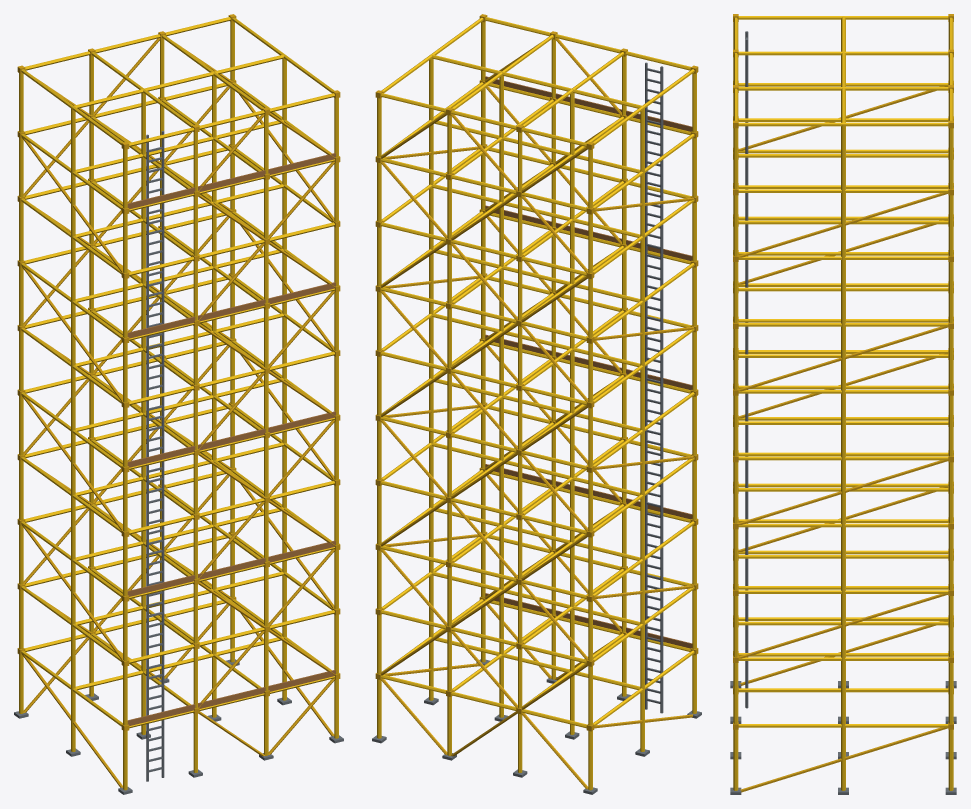
The model's file is yard-scaffold.glb.
3 renders of one model, left to right at view 1: azimuth 30°, elevation 25°; view 2: azimuth 150°, elevation 25°; view 3: azimuth 270°, elevation 25°, orthographic. The views are drawn at different scales.
Visible parts, largest first — view 1: yard-scaffold; view 2: yard-scaffold; view 3: yard-scaffold.
Boxes of the visible parts, x1,y1,x2,y2 form: yard-scaffold: [14, 14, 343, 794]; yard-scaffold: [372, 14, 701, 794]; yard-scaffold: [730, 14, 956, 794].
Size of the model in its own units: 7.14 by 20.12 by 6.14.
